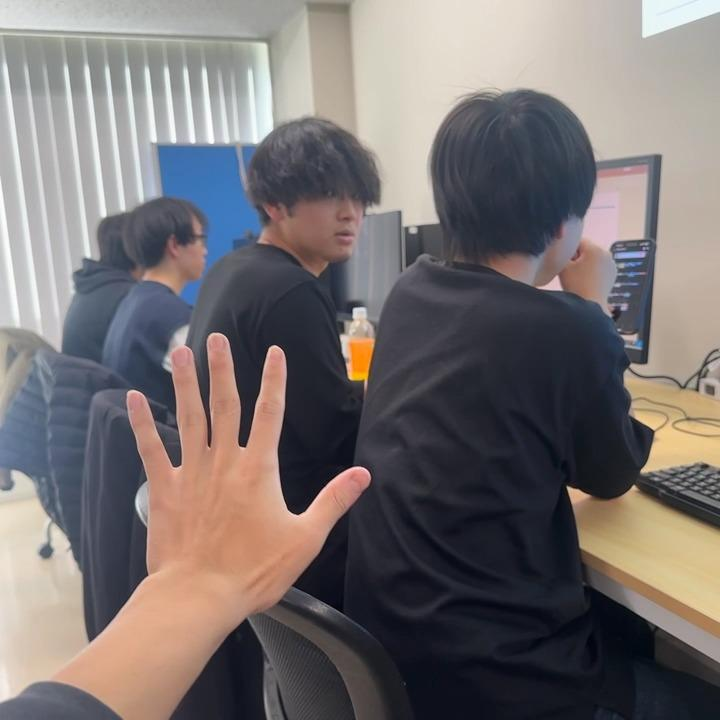without_gloves: (96, 280, 394, 646)
